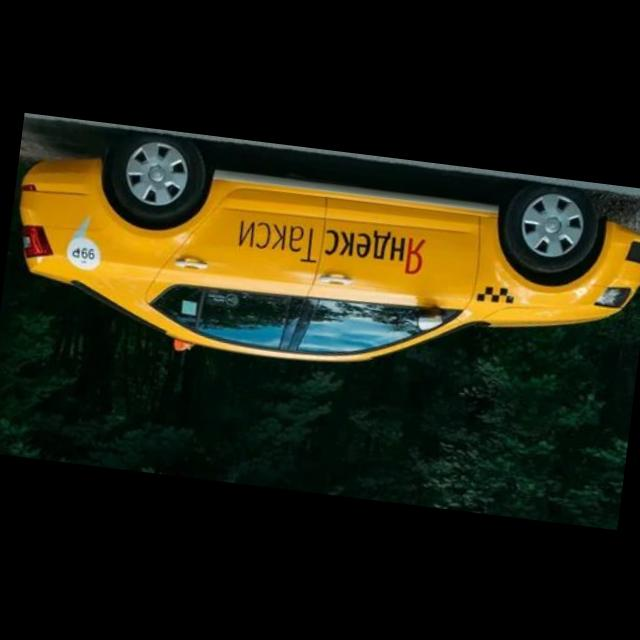taxi: (3, 117, 640, 409)
